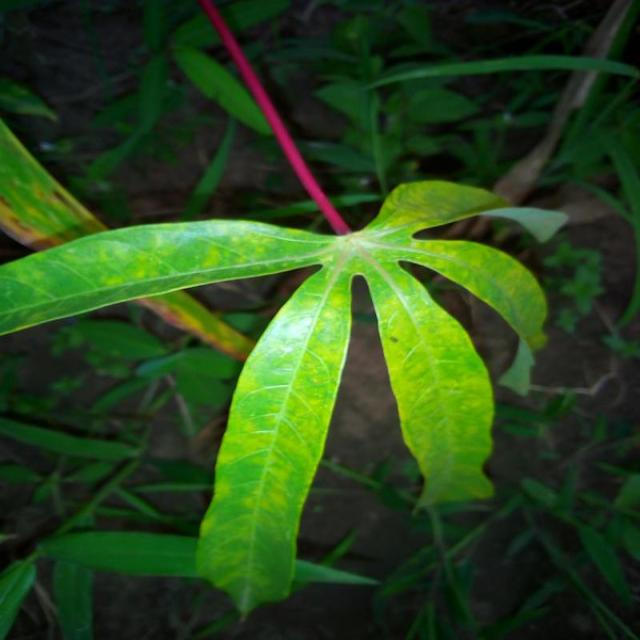cassava leaf: (1, 175, 563, 615)
